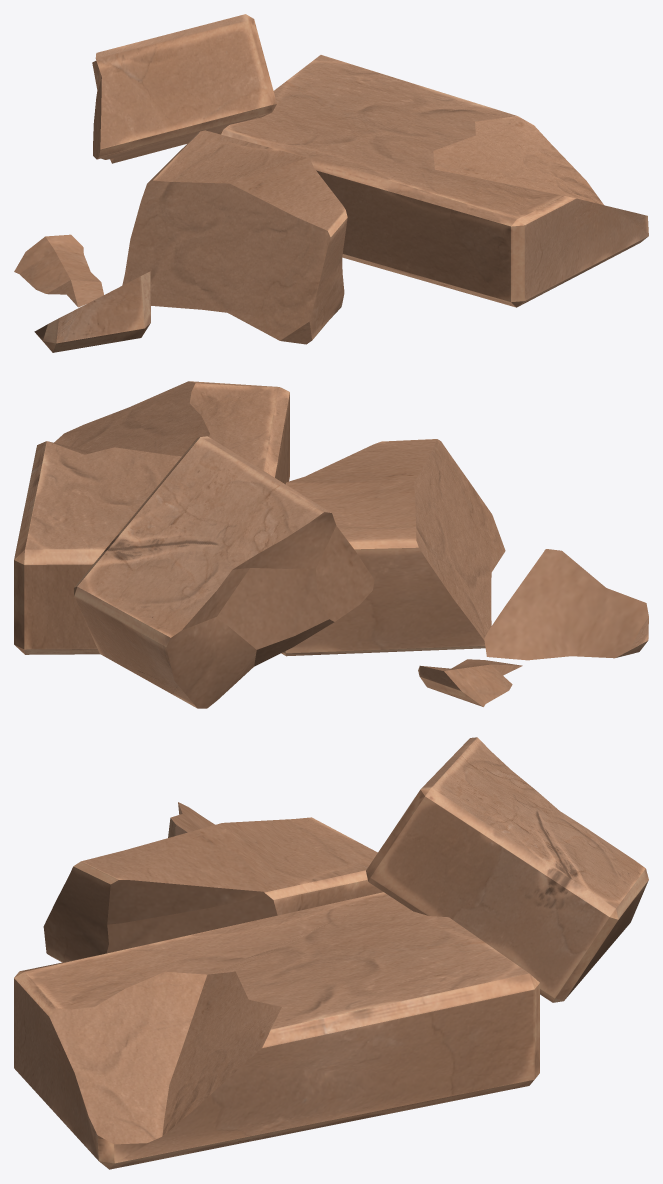
The model's file is SM_Dome_Stair_Broken_03.fbx.
3 renders of one model, top to bottom at view 1: azimuth 30°, elevation 25°; view 2: azimuth 150°, elevation 25°; view 3: azimuth 270°, elevation 25°, orthographic. The views are drawn at different scales.
Visible parts, largest first — view 1: SM_Dome_Stair_Broken_03_LOD0; view 2: SM_Dome_Stair_Broken_03_LOD0; view 3: SM_Dome_Stair_Broken_03_LOD0.
Boxes of the visible parts, <box> form: SM_Dome_Stair_Broken_03_LOD0: <box>14,14,648,352</box>; SM_Dome_Stair_Broken_03_LOD0: <box>14,381,648,708</box>; SM_Dome_Stair_Broken_03_LOD0: <box>14,737,648,1169</box>.
Size of the model in its own units: 148 by 120 by 48.15.
